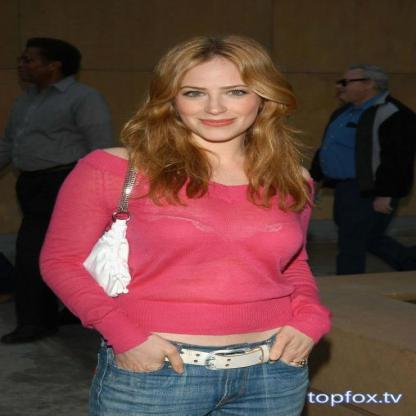long-hair: (128, 142, 305, 172)
